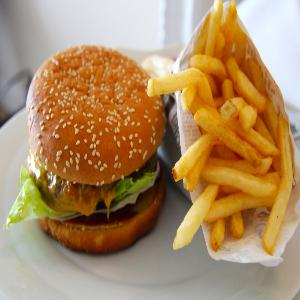cheeseburger: (16, 39, 176, 263)
fries: (170, 1, 294, 263)
